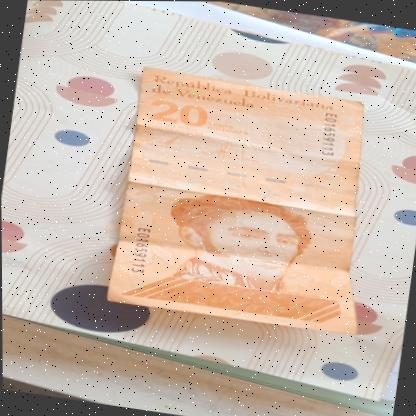twenty-front-vef: (29, 81, 315, 354)
